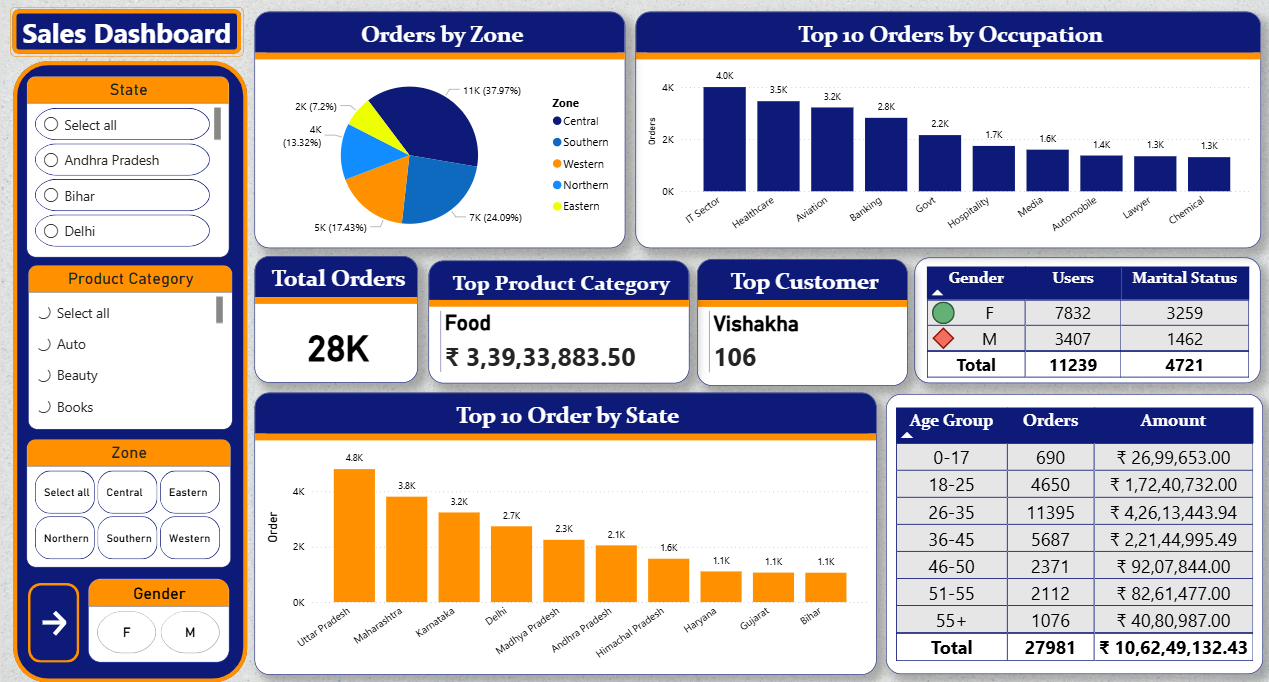

The page's visual inventory and layout, read from the dashboard file:
{"tool":"powerbi","page":{"name":"Dashboard 1","canvas":[1500,800],"ordinal":0},"visuals":[{"type":"shape","title":"Sales Dashboard","box":[13.5,64.2,277.3,735.5],"z":0},{"type":"tableEx","fields":{"Values":["Sales_data.Gender","Sales_data.User_ID","Sales_data.Marital_Status"]},"box":[1080.7,296.5,409.4,148.9],"z":1000},{"type":"clusteredColumnChart","title":"Top 10 Orders by Occupation","fields":{"Category":["Sales_data.Occupation"],"Y":["Sales_data.Orders"]},"box":[750,5.7,740,280],"z":2000},{"type":"pieChart","title":"Orders by Zone","fields":{"Category":["Sales_data.Zone"],"Y":["Sales_data.Orders"]},"box":[300,5.7,438.6,280],"z":3000},{"type":"card","title":"Total Orders","fields":{"Values":["Sales_data.Orders"]},"box":[300.2,295.3,193.5,150.1],"z":4000},{"type":"multiRowCard","title":"Top Customer","fields":{"Values":["Sales_data.Cust_name","Sales_data.Orders"]},"box":[822.6,297.8,249.4,150.1],"z":5000},{"type":"clusteredColumnChart","title":"Top 10 Order by State","fields":{"Category":["Sales_data.State"],"Y":["Sales_data.Orders"]},"box":[300.6,456.5,736,334.3],"z":6000},{"type":"tableEx","fields":{"Values":["Sales_data.Age Group","Sales_data.Orders","Sales_data.Amount"]},"box":[1046.3,457.9,446,331.5],"z":7000},{"type":"multiRowCard","title":"Top Product Category","fields":{"Values":["Sales_data.Product_Category","Sales_data.Amount"]},"box":[505,300.2,308.9,145.2],"z":8000},{"type":"shape","title":"Sales Dashboard","box":[11.8,5.1,277.3,59.2],"z":9000},{"type":"listSlicer","fields":{"Values":["Sales_data.State"]},"box":[30.4,81.2,240.1,214.7],"z":10000},{"type":"advancedSlicerVisual","fields":{"Values":["Sales_data.Zone"]},"box":[30.4,510.6,241.8,152.2],"z":11000},{"type":"listSlicer","title":"Product Category","fields":{"Values":["Sales_data.Product_Category"]},"box":[32.1,304.3,241.8,194.4],"z":12000},{"type":"actionButton","title":"Move to Next Page","box":[32.3,676.2,60.8,99.3],"z":13000},{"type":"advancedSlicerVisual","title":"Gender","fields":{"Values":["Sales_data.Gender"]},"box":[103,676.2,167.5,99.3],"z":15000}]}

Visuals, with their boxes in screenshot pixels (x1, y1, x2, y2), scaled from the page's 1500x800 canvas onto the 1269x682 screenshot:
"Sales Dashboard" shape: [x1=11, y1=55, x2=246, y2=681]
tableEx - Sales_data.Gender x Sales_data.User_ID: [x1=914, y1=253, x2=1261, y2=380]
"Top 10 Orders by Occupation" clusteredColumnChart: [x1=634, y1=5, x2=1261, y2=244]
"Orders by Zone" pieChart: [x1=254, y1=5, x2=625, y2=244]
"Total Orders" card: [x1=254, y1=252, x2=418, y2=380]
"Top Customer" multiRowCard: [x1=696, y1=254, x2=907, y2=382]
"Top 10 Order by State" clusteredColumnChart: [x1=254, y1=389, x2=877, y2=674]
tableEx - Sales_data.Age Group x Sales_data.Orders: [x1=885, y1=390, x2=1262, y2=673]
"Top Product Category" multiRowCard: [x1=427, y1=256, x2=689, y2=380]
"Sales Dashboard" shape: [x1=10, y1=4, x2=245, y2=55]
listSlicer - Sales_data.State: [x1=26, y1=69, x2=229, y2=252]
advancedSlicerVisual - Sales_data.Zone: [x1=26, y1=435, x2=230, y2=565]
"Product Category" listSlicer: [x1=27, y1=259, x2=232, y2=425]
"Move to Next Page" actionButton: [x1=27, y1=576, x2=79, y2=661]
"Gender" advancedSlicerVisual: [x1=87, y1=576, x2=229, y2=661]
